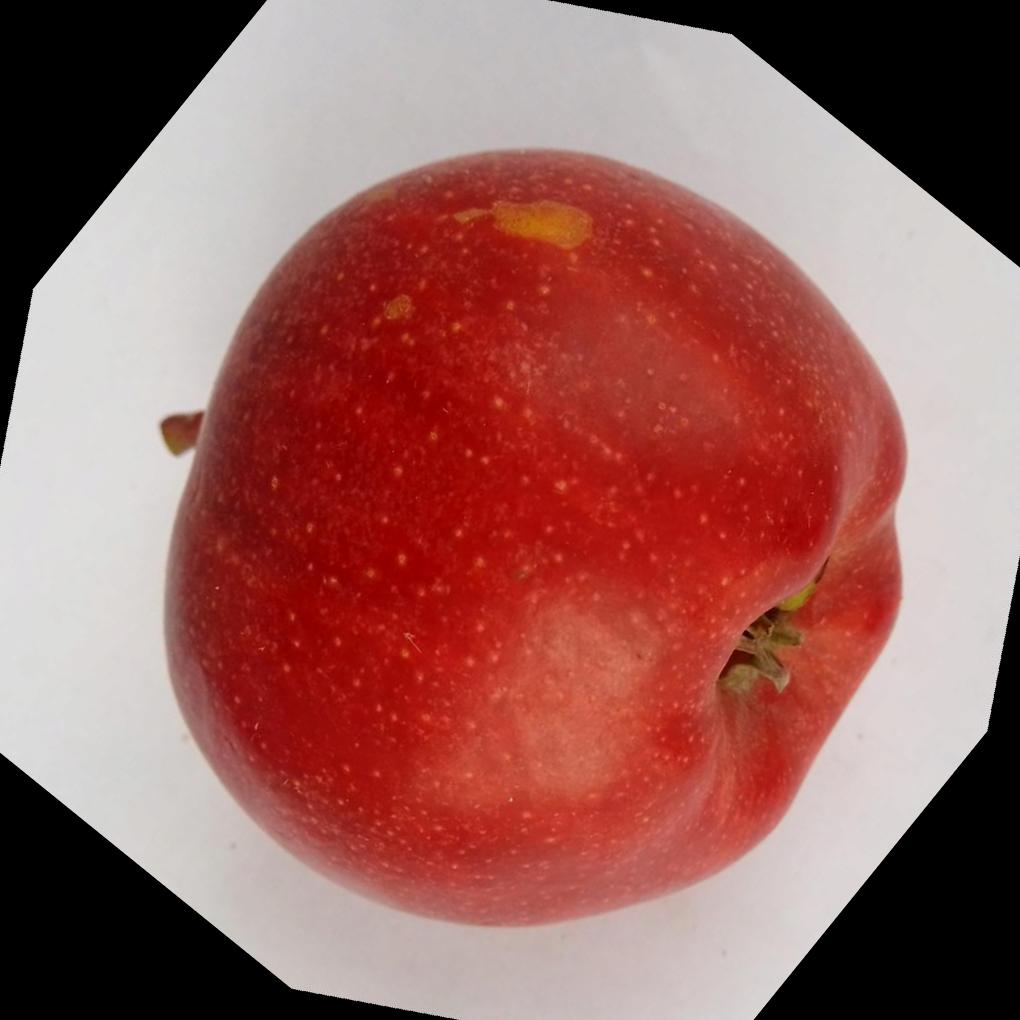FreshGuava: (162, 146, 914, 946)
